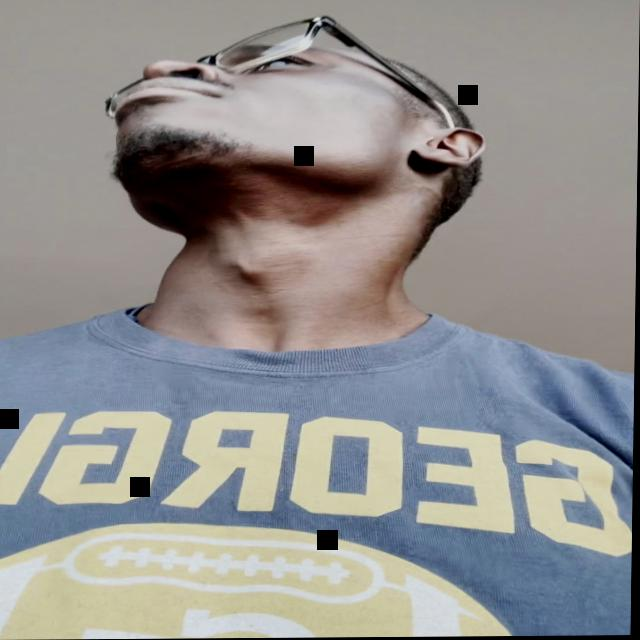NO-Mask: (107, 47, 436, 189)
